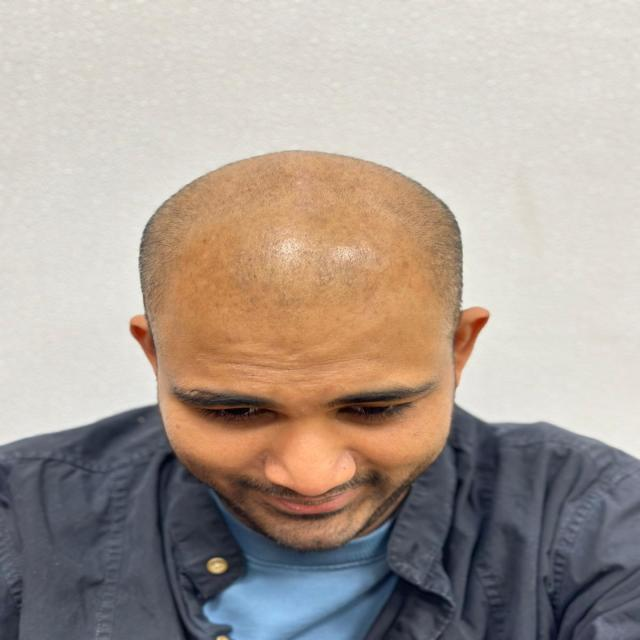nocap: (116, 140, 487, 310)
